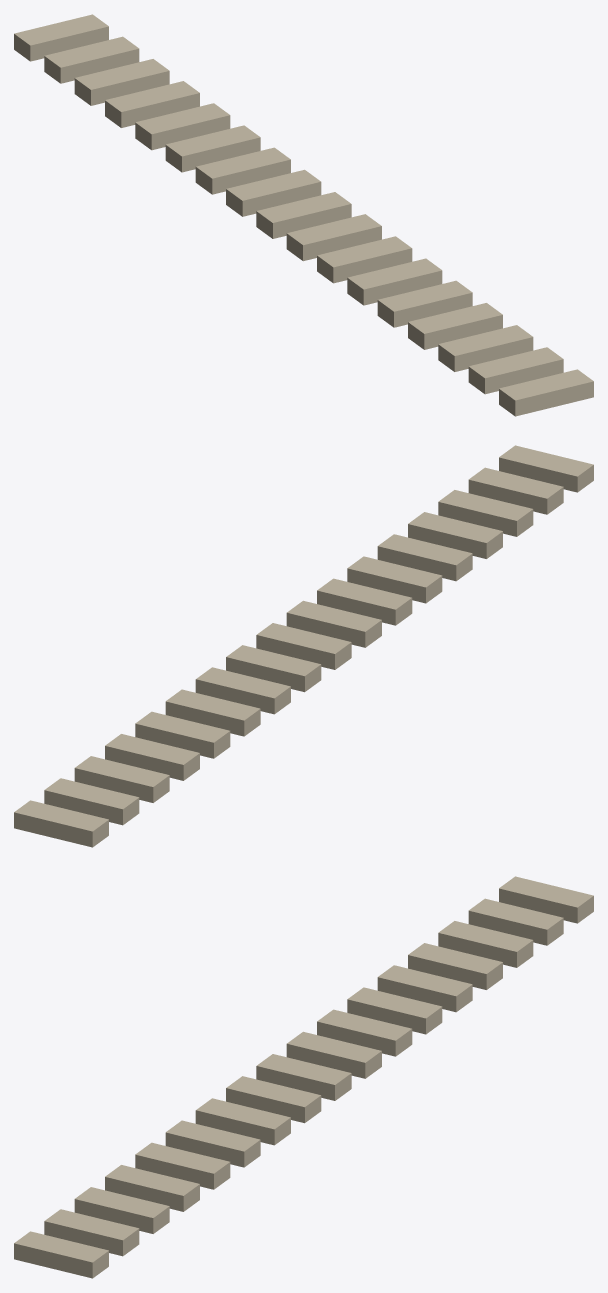
Rendered from 1275-Buildings-shell-pieces-roof-terrace-emitTerrace-170-triangles-1-80-x-0-35-x-19-8.glb.
3 renders of one model, top to bottom at view 1: azimuth 30°, elevation 25°; view 2: azimuth 150°, elevation 25°; view 3: azimuth 330°, elevation 25°, orthographic.
Parts seen in each view (by area): view 1: emitTerrace; view 2: emitTerrace; view 3: emitTerrace.
Part boxes in pixels (<box>): emitTerrace: <box>14,14,593,416</box>; emitTerrace: <box>14,445,593,847</box>; emitTerrace: <box>14,876,593,1278</box>.
Bounding box in the file's own units: 1.8 × 0.35 × 19.85.
